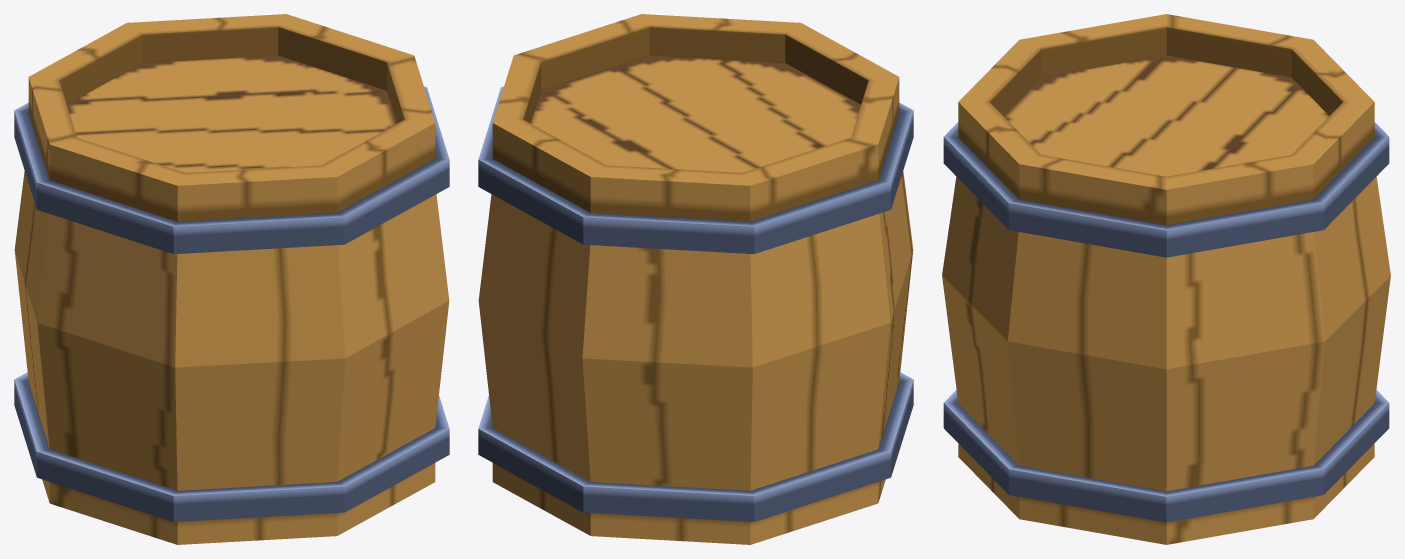
The model's file is env_barrel.gltf.
The picture shows the model from 3 angles, left to right: view 1: azimuth 30°, elevation 25°; view 2: azimuth 150°, elevation 25°; view 3: azimuth 270°, elevation 25°; orthographic projection.
Visible parts, largest first — view 1: barrel; view 2: barrel; view 3: barrel.
Part boxes in pixels (left/top/right/bottom): barrel: left=14, top=14, right=449, bottom=544; barrel: left=478, top=14, right=913, bottom=544; barrel: left=942, top=14, right=1390, bottom=544.
Size of what is drawn, in the model's own units: 1.43 by 1.26 by 1.44.
Materials: 1 (1 with a texture image).
